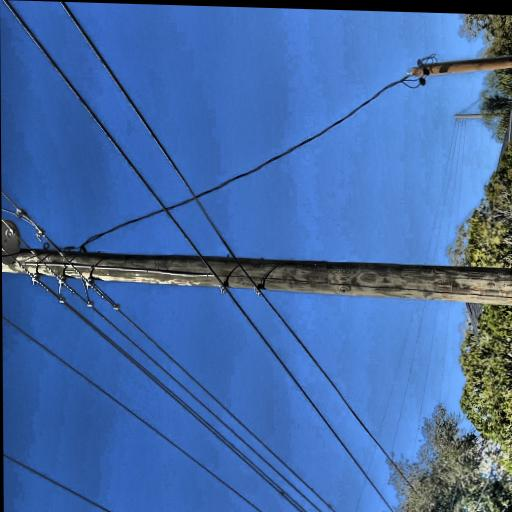pole: (52, 2, 126, 512)
transformer: (94, 59, 139, 153)
